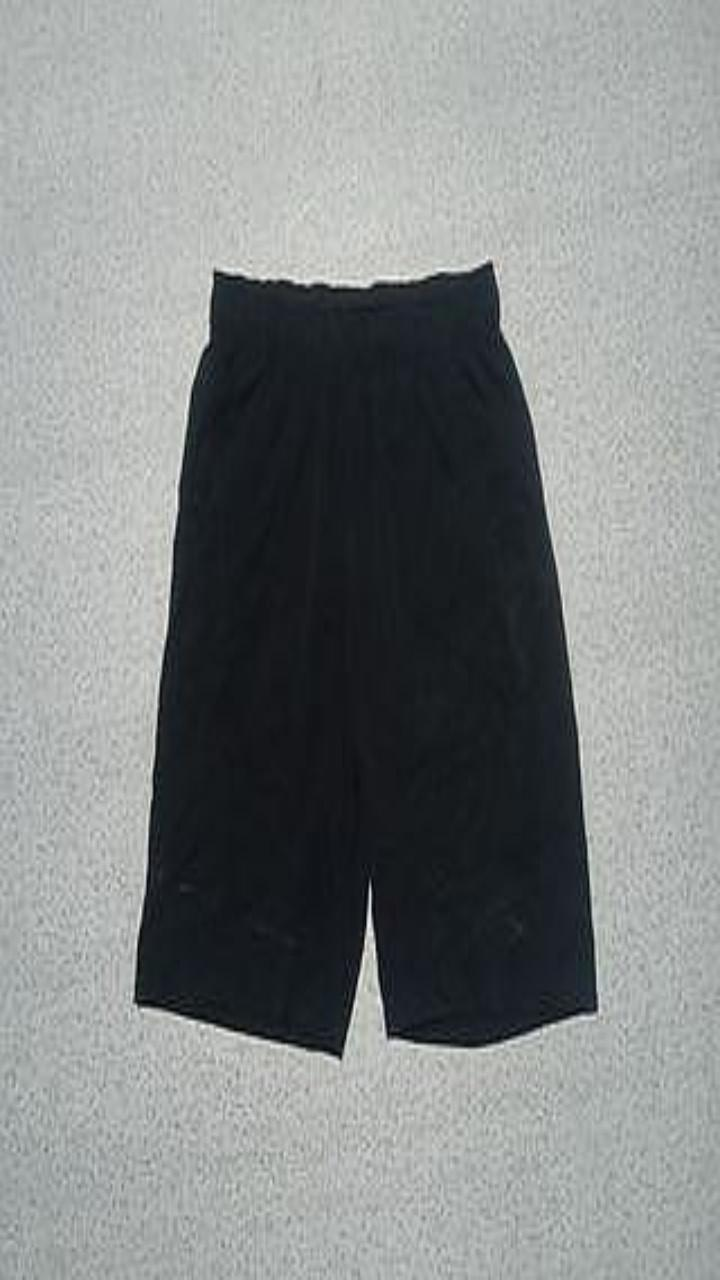Shorts: (134, 260, 597, 1057)
